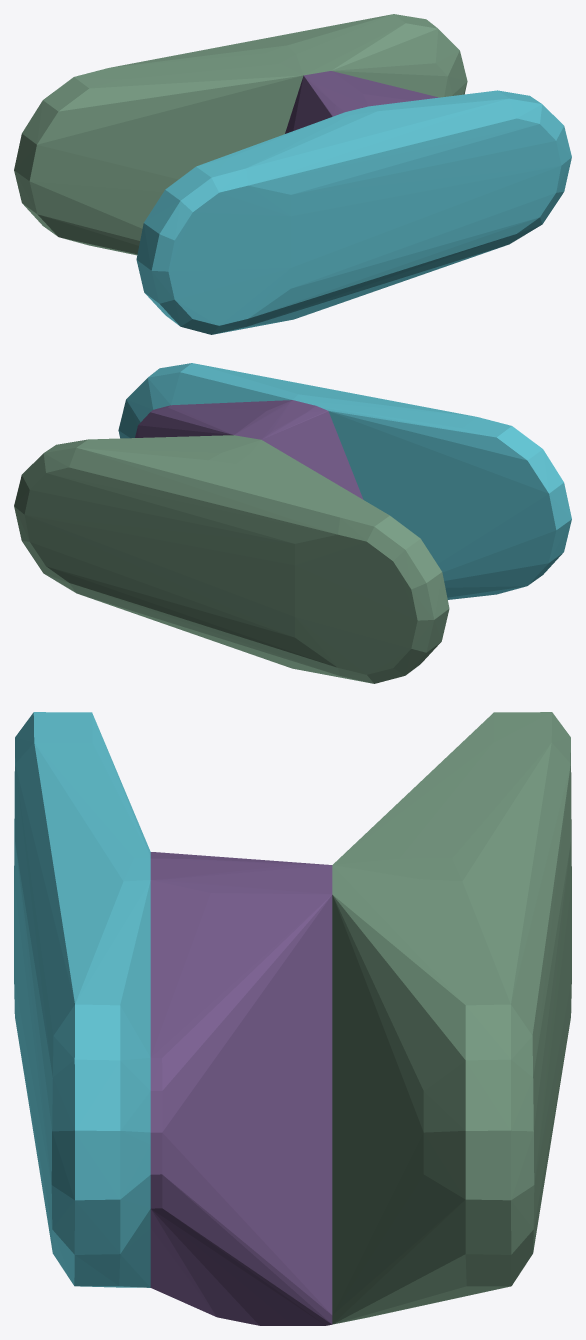
3 views of the same model, one above another, from view 1: azimuth 30°, elevation 25°; view 2: azimuth 150°, elevation 25°; view 3: azimuth 270°, elevation 25° (orthographic). The views are drawn at different scales.
Visible parts, largest first — view 1: geometry_2, geometry_0, geometry_1; view 2: geometry_0, geometry_2, geometry_1; view 3: geometry_0, geometry_1, geometry_2.
Part boxes in pixels (x1=…): geometry_2: x1=136, y1=90, x2=571, y2=334; geometry_0: x1=14, y1=14, x2=467, y2=255; geometry_1: x1=285, y1=71, x2=438, y2=133; geometry_0: x1=14, y1=435, x2=449, y2=683; geometry_2: x1=118, y1=363, x2=571, y2=599; geometry_1: x1=135, y1=400, x2=363, y2=499; geometry_0: x1=332, y1=712, x2=571, y2=1324; geometry_1: x1=150, y1=852, x2=332, y2=1325; geometry_2: x1=14, y1=712, x2=150, y2=1287.
Size of the model in its own units: 0.0335 by 0.014 by 0.0199.
